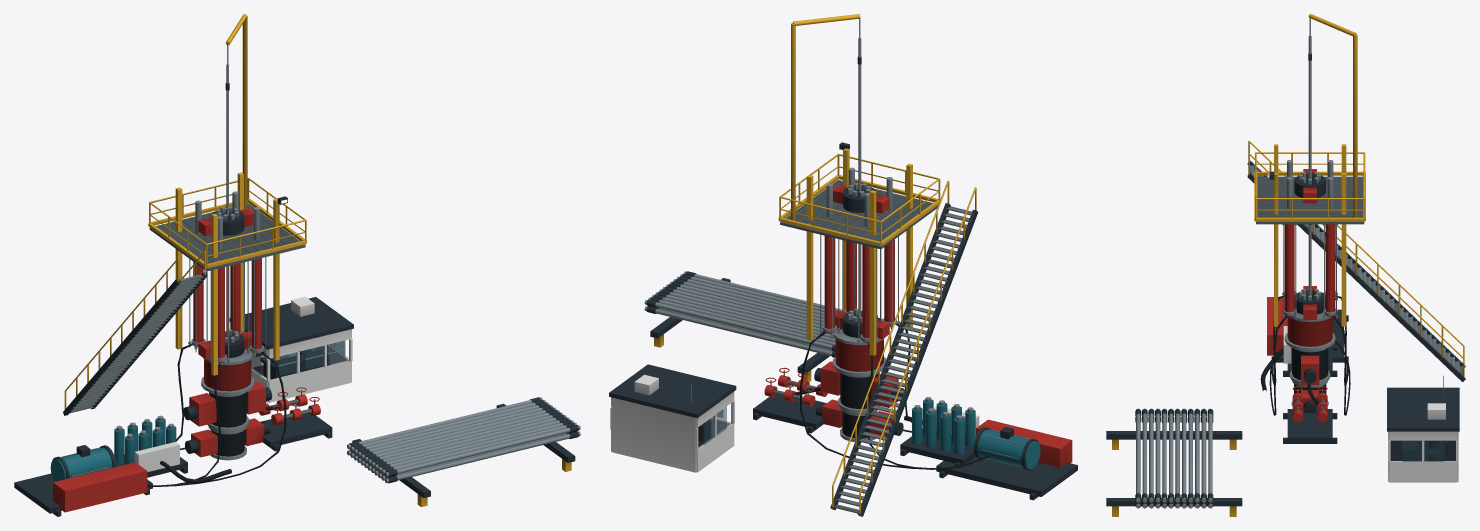
File: snubbing_unit_lodm.glb
The picture shows the model from 3 angles, left to right: view 1: azimuth 30°, elevation 25°; view 2: azimuth 150°, elevation 25°; view 3: azimuth 270°, elevation 25°; orthographic projection. The views are drawn at different scales.
Visible parts, largest first — view 1: pipe_rack_surface_steel, control_cabin_surface_white, control_cabin_surface_dark, snubbing_frame_surface_yellow, handrails_surface_yellow, hydraulic_power_pack_surface_red, hydraulic_jacks_surface_red, drill_floor_surface_deck, stairs_surface_steel, pipe_rack_surface_dark, stairs_surface_dark, accumulator_surface_blue (+18 smaller); view 2: pipe_rack_surface_steel, control_cabin_surface_white, stairs_surface_steel, control_cabin_surface_dark, stairs_surface_dark, snubbing_frame_surface_yellow, hydraulic_jacks_surface_red, hydraulic_power_pack_surface_dark, handrails_surface_yellow, drill_floor_surface_deck, accumulator_surface_blue, stairs_surface_yellow (+21 smaller); view 3: pipe_rack_surface_steel, control_cabin_surface_dark, drill_floor_surface_deck, control_cabin_surface_white, pipe_rack_surface_dark, handrails_surface_yellow, hydraulic_jacks_surface_red, snubbing_frame_surface_yellow, stairs_surface_dark, choke_manifold_surface_dark, stairs_surface_steel, stairs_surface_yellow (+16 smaller).
Part boxes in pixels (left/top/right/bottom): pipe_rack_surface_steel: left=347, top=397, right=580, bottom=483; control_cabin_surface_white: left=251, top=296, right=352, bottom=402; control_cabin_surface_dark: left=229, top=297, right=353, bottom=379; snubbing_frame_surface_yellow: left=175, top=172, right=279, bottom=375; handrails_surface_yellow: left=148, top=178, right=306, bottom=268; hydraulic_power_pack_surface_red: left=53, top=462, right=147, bottom=512; hydraulic_jacks_surface_red: left=193, top=258, right=261, bottom=362; drill_floor_surface_deck: left=149, top=203, right=305, bottom=271; stairs_surface_steel: left=68, top=274, right=204, bottom=413; pipe_rack_surface_dark: left=349, top=397, right=578, bottom=497; stairs_surface_dark: left=63, top=272, right=207, bottom=415; accumulator_surface_blue: left=114, top=418, right=176, bottom=464; pipe_rack_surface_steel: left=644, top=271, right=882, bottom=356; control_cabin_surface_white: left=610, top=374, right=734, bottom=472; stairs_surface_steel: left=833, top=206, right=972, bottom=513; control_cabin_surface_dark: left=609, top=364, right=736, bottom=447; stairs_surface_dark: left=830, top=203, right=978, bottom=516; snubbing_frame_surface_yellow: left=806, top=148, right=912, bottom=355; hydraulic_jacks_surface_red: left=824, top=236, right=894, bottom=342; hydraulic_power_pack_surface_dark: left=936, top=426, right=1077, bottom=500; handrails_surface_yellow: left=778, top=153, right=940, bottom=246; drill_floor_surface_deck: left=780, top=180, right=938, bottom=249; accumulator_surface_blue: left=912, top=399, right=975, bottom=454; stairs_surface_yellow: left=832, top=180, right=976, bottom=515; pipe_rack_surface_steel: left=1136, top=408, right=1212, bottom=508; control_cabin_surface_dark: left=1387, top=387, right=1459, bottom=460; drill_floor_surface_deck: left=1256, top=176, right=1364, bottom=224; control_cabin_surface_white: left=1388, top=403, right=1458, bottom=482; pipe_rack_surface_dark: left=1106, top=409, right=1242, bottom=507; handrails_surface_yellow: left=1254, top=152, right=1365, bottom=221; hydraulic_jacks_surface_red: left=1284, top=224, right=1335, bottom=316; snubbing_frame_surface_yellow: left=1274, top=144, right=1346, bottom=326; stairs_surface_dark: left=1247, top=161, right=1465, bottom=381; choke_manifold_surface_dark: left=1283, top=409, right=1337, bottom=443; stairs_surface_steel: left=1250, top=164, right=1463, bottom=375; stairs_surface_yellow: left=1248, top=140, right=1464, bottom=377.
Size of the model in its own units: 22.2 by 19.37 by 15.87.
